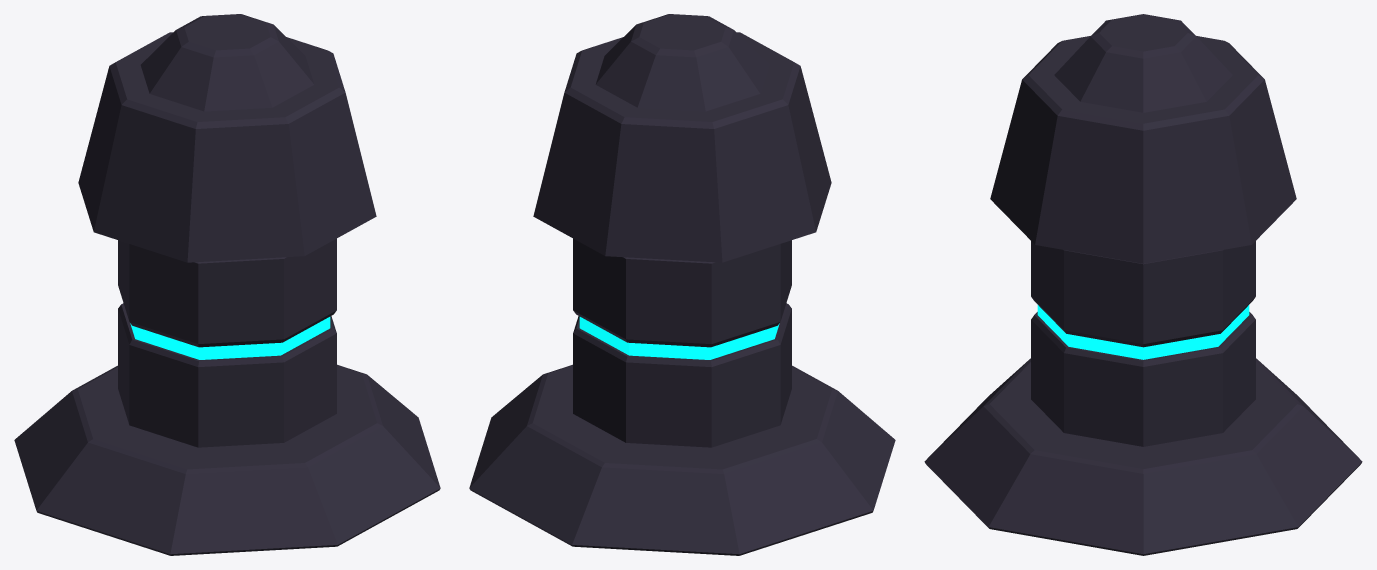
Rendered from SM_Borne_002.fbx.
3 renders of one model, left to right at view 1: azimuth 30°, elevation 25°; view 2: azimuth 150°, elevation 25°; view 3: azimuth 270°, elevation 25°, orthographic.
Parts seen in each view (by area): view 1: SM_Borne_02; view 2: SM_Borne_02; view 3: SM_Borne_02.
Boxes of the visible parts, bbox=[...] form: SM_Borne_02: bbox=[14, 14, 440, 555]; SM_Borne_02: bbox=[469, 14, 895, 555]; SM_Borne_02: bbox=[924, 14, 1362, 555].
Bounding box in the file's own units: 82.77 × 89.83 × 82.77.
